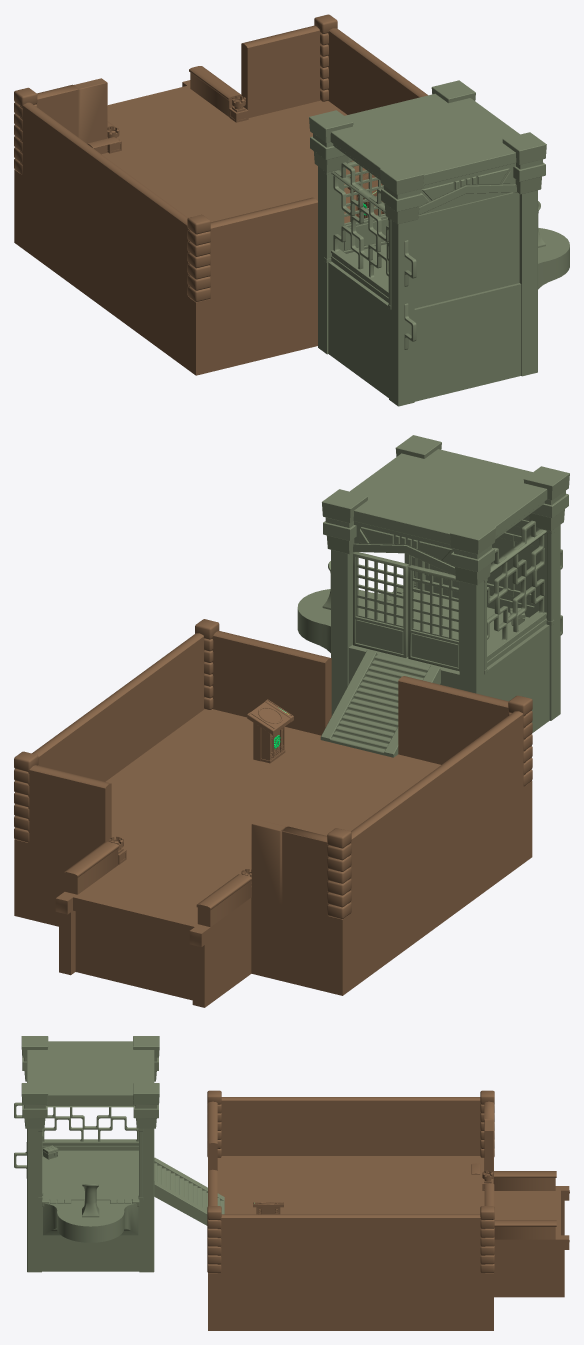
The model's file is TutorialMapEx.fbx.
3 views of the same model, one above another, from view 1: azimuth 30°, elevation 25°; view 2: azimuth 150°, elevation 25°; view 3: azimuth 270°, elevation 25° (orthographic). The views are drawn at different scales.
Visible parts, largest first — view 1: mainFloor, utari.009, spawn, jb.002, UIwall, gidung, gidung.002, utari.003, rv, Cube.004, utari.002, gidung.003 (+11 smaller); view 2: mainFloor, utari.009, rv, jb.002, door, gidung.002, spawn, utari.003, utari.002, Cube.004, gidung, str2 (+13 smaller); view 3: utari.009, mainFloor, spawn, jb.002, rv, gidung.003, gidung.002, portal, Cube.004, R, str, decoWall10 (+6 smaller).
Part boxes in pixels (left/top/right/bottom): mainFloor: left=14, top=100, right=365, bottom=375; utari.009: left=20, top=28, right=427, bottom=298; spawn: left=328, top=244, right=521, bottom=401; jb.002: left=330, top=93, right=519, bottom=185; UIwall: left=414, top=192, right=519, bottom=308; gidung: left=318, top=166, right=414, bottom=406; gidung.002: left=309, top=80, right=546, bottom=224; utari.003: left=241, top=25, right=320, bottom=117; rv: left=107, top=80, right=228, bottom=143; Cube.004: left=14, top=14, right=337, bottom=301; utari.002: left=36, top=78, right=107, bottom=154; gidung.003: left=519, top=190, right=537, bottom=376; mainFloor: left=14, top=709, right=532, bottom=995; utari.009: left=32, top=631, right=525, bottom=914; rv: left=55, top=865, right=251, bottom=1007; jb.002: left=350, top=449, right=547, bottom=544; door: left=353, top=552, right=459, bottom=671; gidung.002: left=322, top=435, right=569, bottom=585; spawn: left=348, top=592, right=549, bottom=733; utari.003: left=28, top=765, right=111, bottom=856; utari.002: left=251, top=819, right=328, bottom=915; Cube.004: left=14, top=619, right=532, bottom=918; gidung: left=459, top=525, right=560, bottom=720; str2: left=330, top=655, right=429, bottom=755; utari.009: left=208, top=1097, right=485, bottom=1273; mainFloor: left=208, top=1156, right=493, bottom=1330; spawn: left=42, top=1150, right=139, bottom=1271; jb.002: left=27, top=1041, right=154, bottom=1102; rv: left=494, top=1186, right=569, bottom=1297; gidung.003: left=27, top=1128, right=154, bottom=1272; gidung.002: left=21, top=1036, right=159, bottom=1128; portal: left=43, top=1200, right=138, bottom=1242; Cube.004: left=207, top=1090, right=494, bottom=1272; R: left=494, top=1178, right=555, bottom=1239; str: left=154, top=1157, right=224, bottom=1225; decoWall10: left=14, top=1102, right=138, bottom=1178.
Size of the model in its own units: 1750 by 904 by 715.
